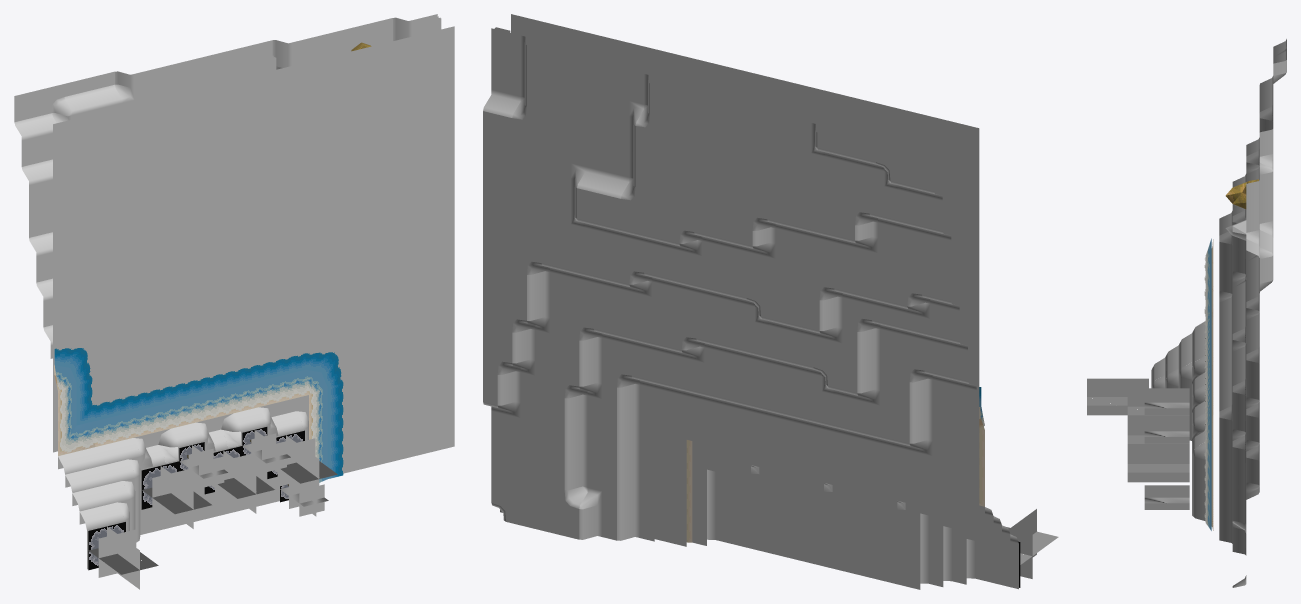
File: Barrier-Reef_01_11.obj
3 renders of one model, left to right at view 1: azimuth 30°, elevation 25°; view 2: azimuth 150°, elevation 25°; view 3: azimuth 270°, elevation 25°, orthographic. The views are drawn at different scales.
Parts seen in each view (by area): view 1: map; view 2: map; view 3: map.
Part boxes in pixels (x1,y1,x2,y2): map: [14, 14, 454, 589]; map: [483, 14, 1058, 589]; map: [1087, 39, 1286, 587].
Bounding box in the file's own units: 32 × 32 × 14.75.
